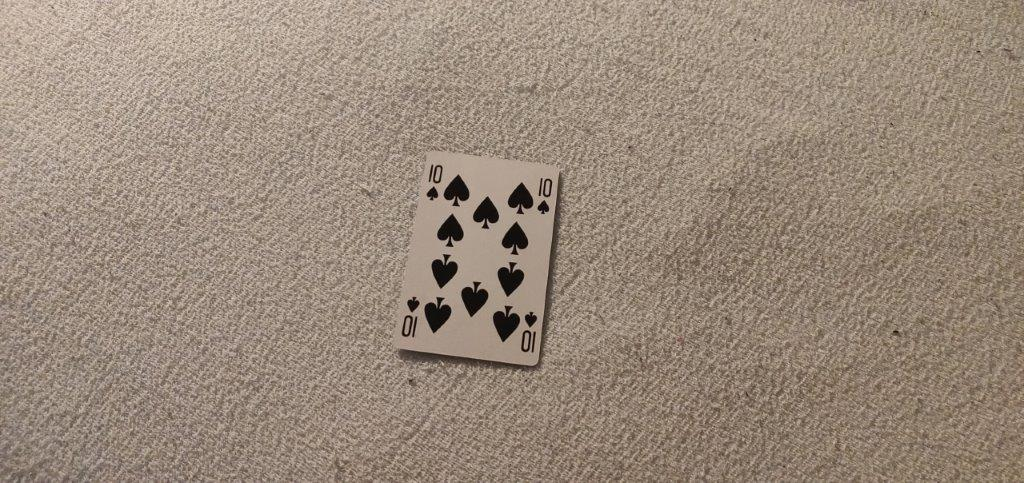10S: (534, 176, 556, 220), (425, 159, 443, 206)
